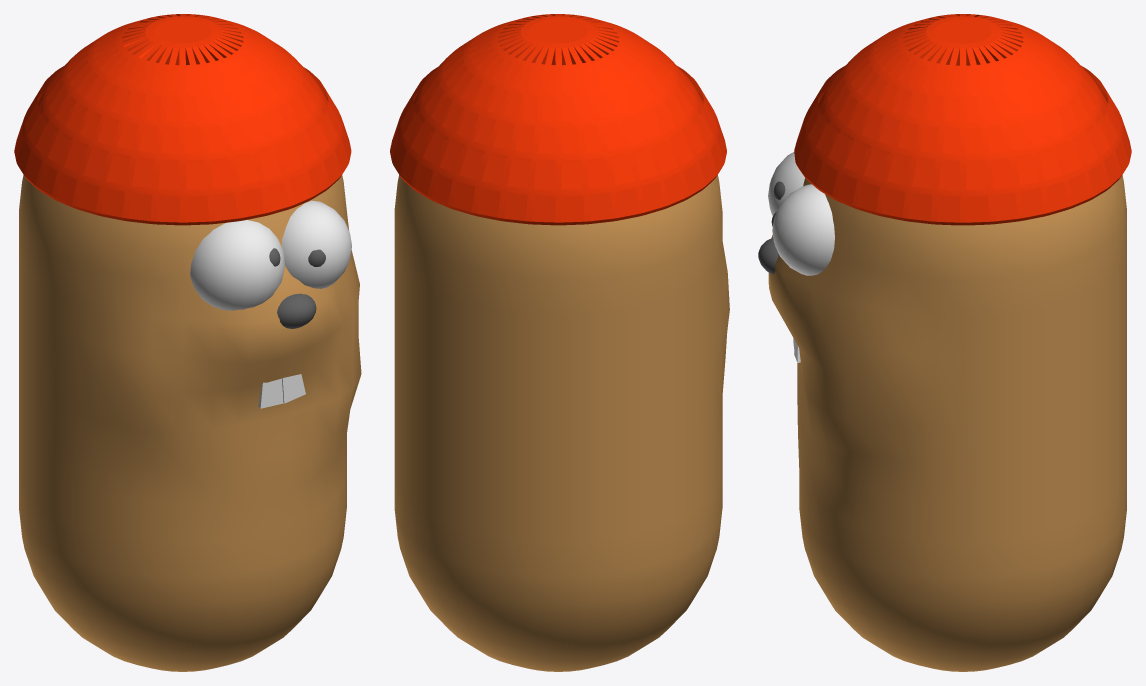
Rendered from mole.glb.
The picture shows the model from 3 angles, left to right: view 1: azimuth 30°, elevation 25°; view 2: azimuth 150°, elevation 25°; view 3: azimuth 270°, elevation 25°; orthographic projection.
Parts seen in each view (by area): view 1: Null; view 2: Null; view 3: Null.
Part boxes in pixels (x1,y1,x2,y2): Null: (14,14,361,671); Null: (390,14,729,671); Null: (758,14,1131,671).
Bounding box in the file's own units: 0.2217 × 0.4543 × 0.2457.
